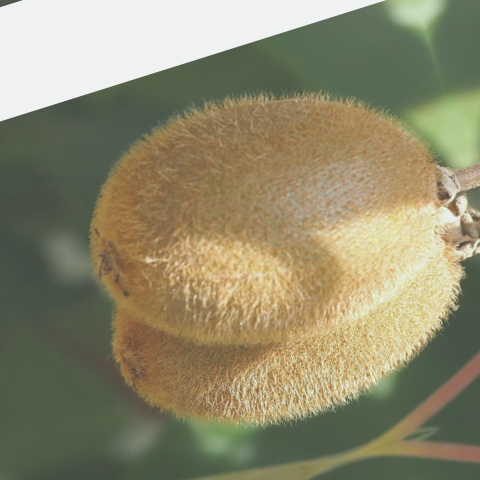kiwi: (28, 34, 480, 401)
